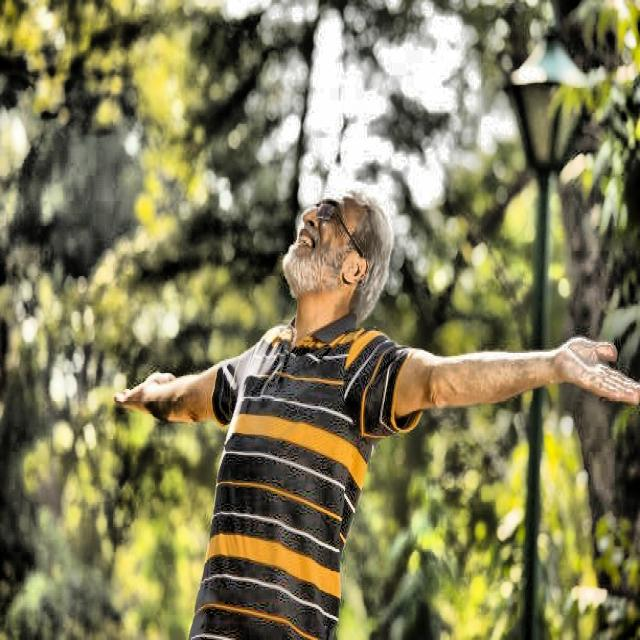Human: (103, 104, 628, 640)
